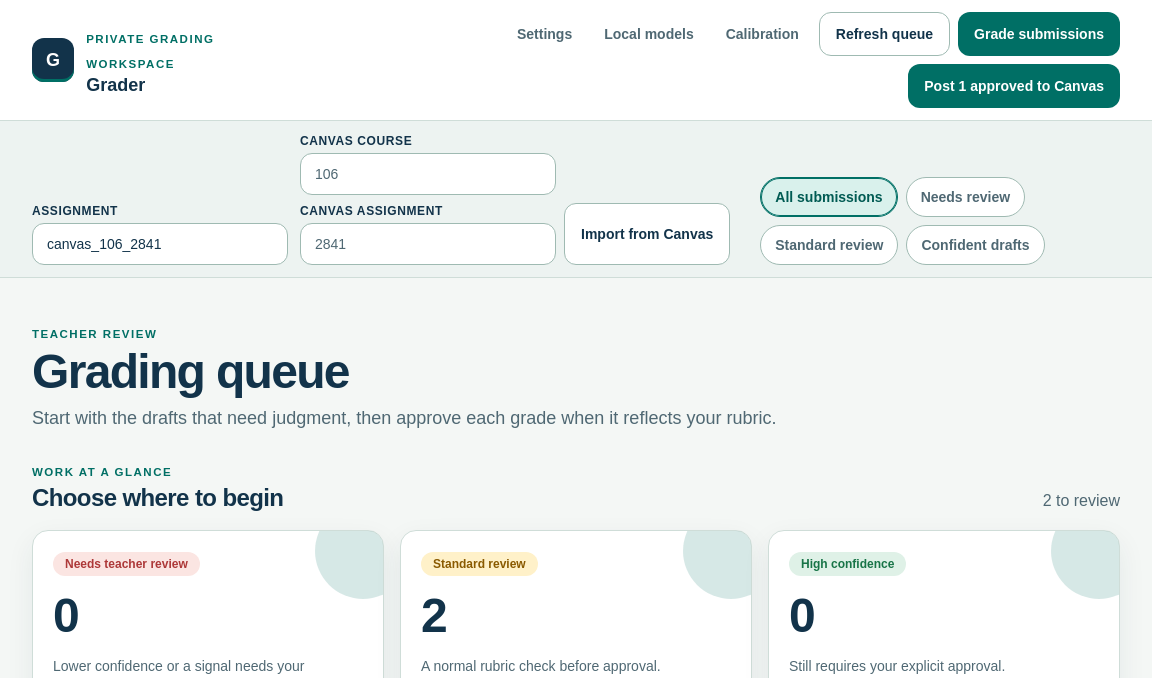
posting approved grades to Canvas › tells the teacher a queued post is kept, not lost
Click the button "Post 1 approved to Canvas".
click(1014, 86)  # box [908,64,1120,108]
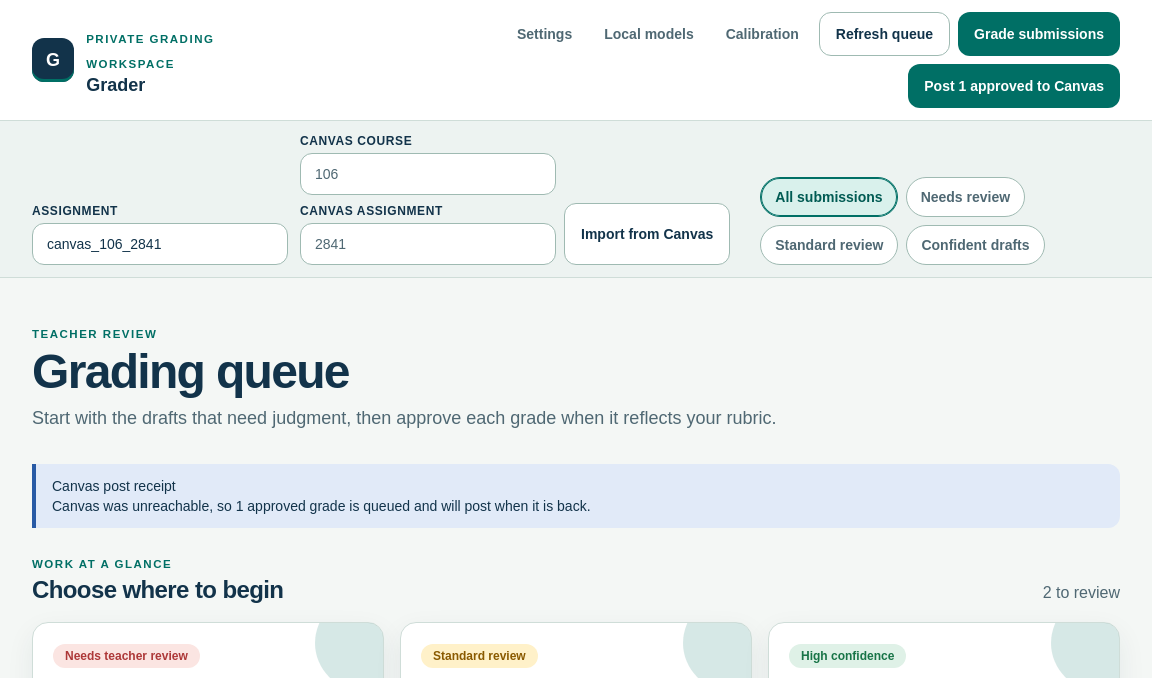
Expected: the list item "Canvas was unreachable" shows "queued and will post", [52,498,591,514]
